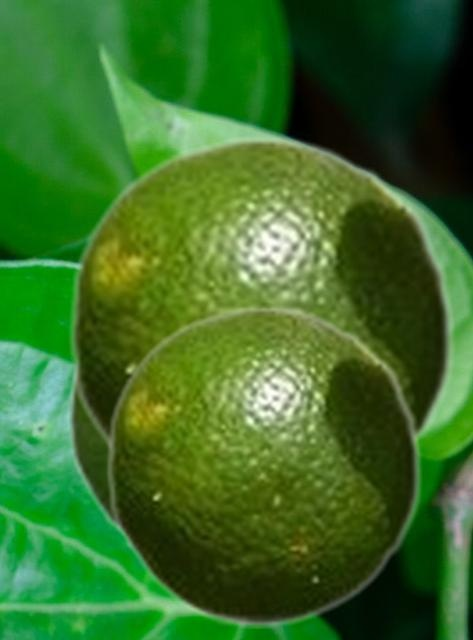calamansi: (66, 134, 456, 457), (104, 304, 423, 627), (67, 367, 126, 547)
